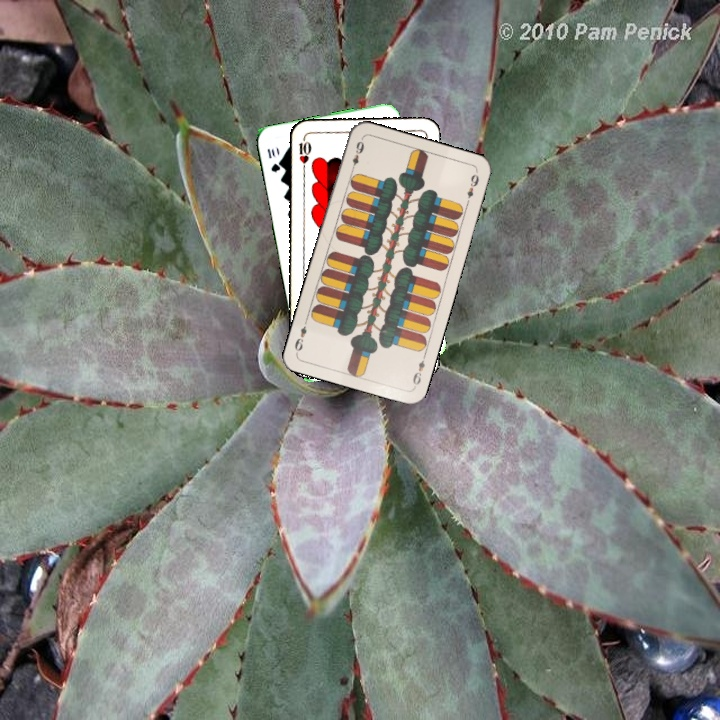E9: (347, 135, 367, 175), (409, 350, 428, 390)
G10: (263, 144, 283, 175)
H10: (295, 132, 314, 173)
